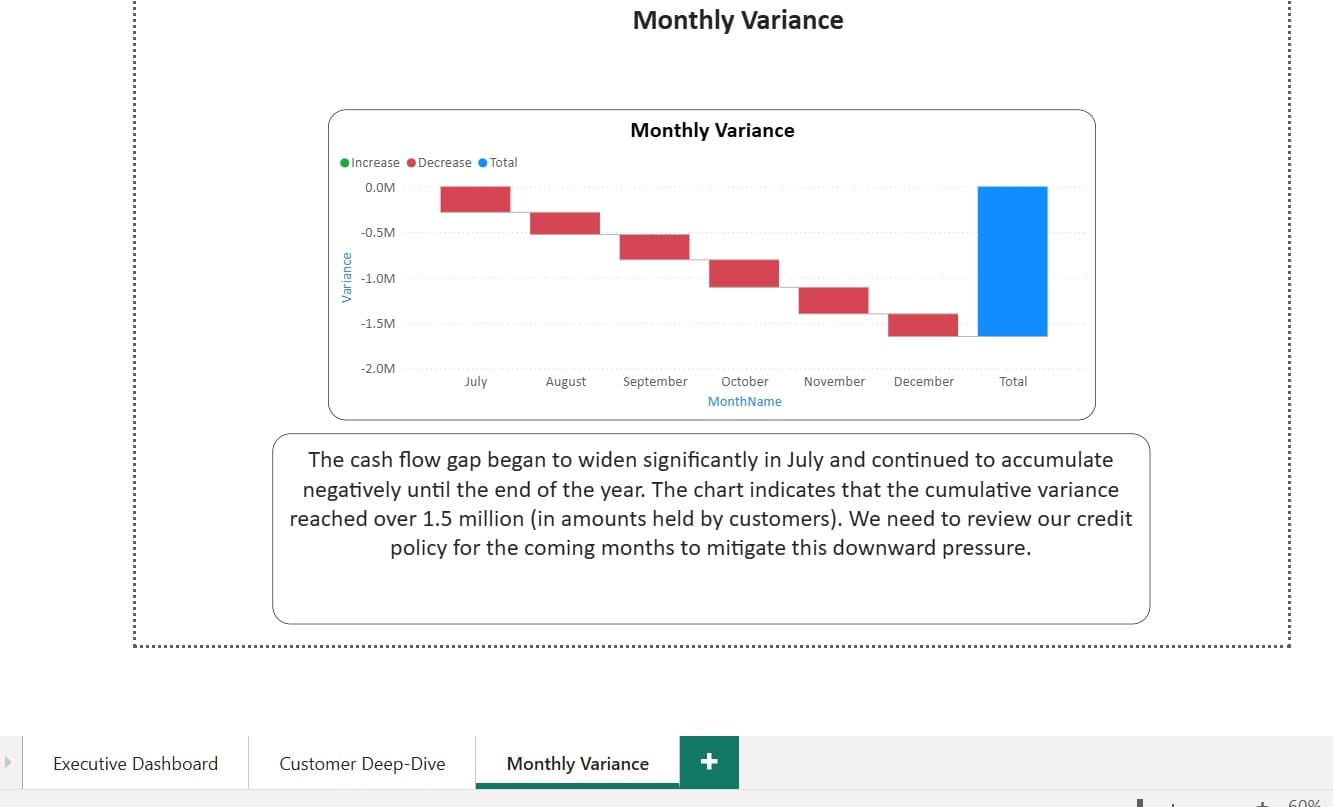

Layout of this report page (visuals, bound fields, positions):
{"tool":"powerbi","page":{"name":"Monthly Variance","canvas":[1280,720],"ordinal":2},"visuals":[{"type":"textbox","box":[151.7,485,975,211.7],"z":0},{"type":"waterfallChart","title":"Monthly Variance","fields":{"Category":["DimDate.MonthName"],"Y":["Fact_Payments.Variance"]},"box":[213.3,125,853.3,345],"z":1000},{"type":"textbox","box":[478.3,0,381.7,78.3],"z":2000}]}

Visuals, with their boxes on the page's 1280x720 design canvas (x1, y1, x2, y2). These are canvas units, not pixel positions in the 1333x807 screenshot, which may show the page scaled, cropped or inside an application window:
textbox: Rect(152, 485, 1127, 697)
"Monthly Variance" waterfallChart: Rect(213, 125, 1067, 470)
textbox: Rect(478, 0, 860, 78)
